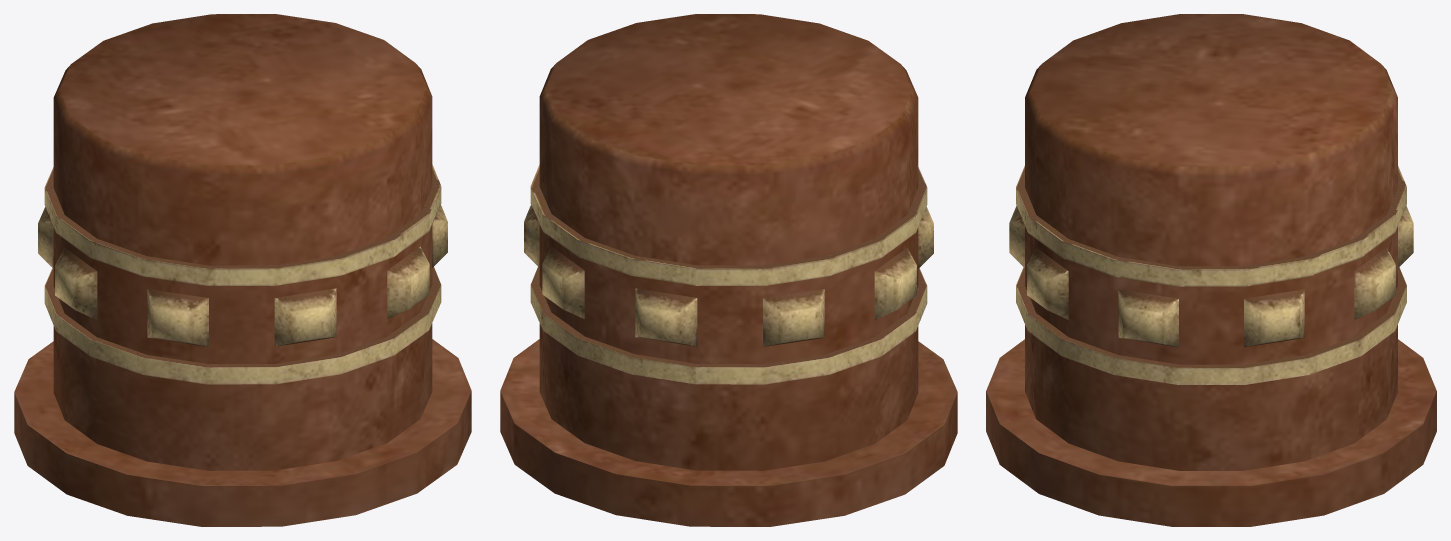
The model's file is Kolonna_podstavka_01.glb.
3 views of the same model, side by side, from view 1: azimuth 30°, elevation 25°; view 2: azimuth 150°, elevation 25°; view 3: azimuth 270°, elevation 25° (orthographic).
Parts seen in each view (by area): view 1: Kolonna_podstavka_01; view 2: Kolonna_podstavka_01; view 3: Kolonna_podstavka_01.
Part boxes in pixels (bbox=[...]): Kolonna_podstavka_01: bbox=[14, 14, 471, 526]; Kolonna_podstavka_01: bbox=[500, 14, 957, 526]; Kolonna_podstavka_01: bbox=[986, 14, 1436, 526].
Bounding box in the file's own units: 0.6043 × 0.5052 × 0.6043.
1 material, 1 textured.
